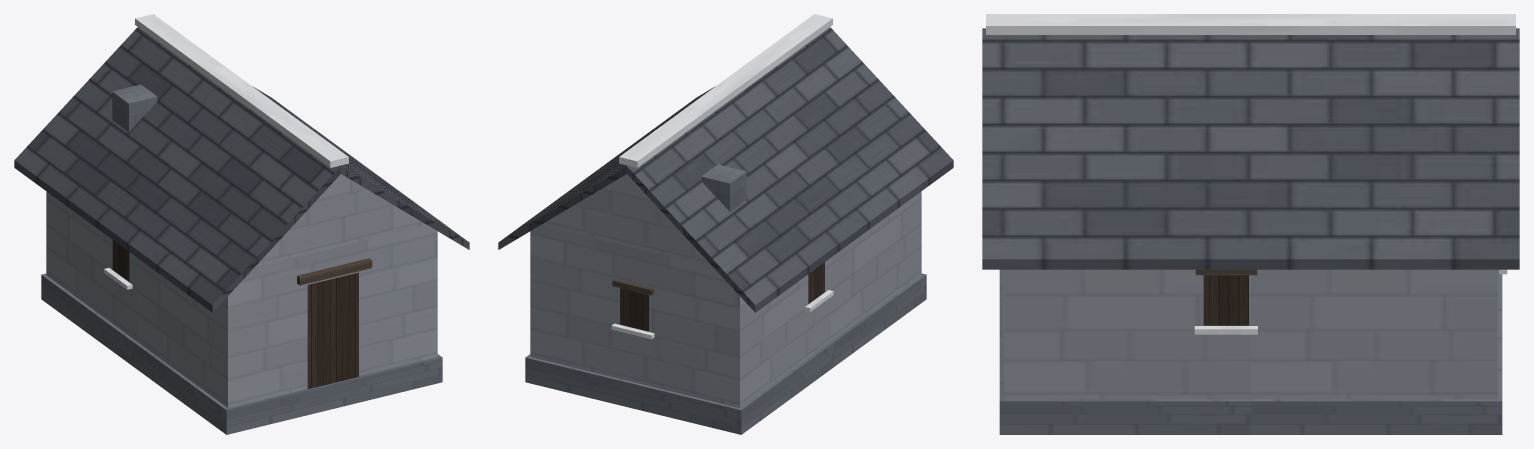
File: ae_snow_stone_medium_block_lod1.glb
3 views of the same model, side by side, from view 1: azimuth 30°, elevation 25°; view 2: azimuth 150°, elevation 25°; view 3: azimuth 270°, elevation 25° (orthographic). The views are drawn at different scales.
Visible parts, largest first — view 1: ae_snow_stone_medium_block_lod1; view 2: ae_snow_stone_medium_block_lod1; view 3: ae_snow_stone_medium_block_lod1.
Boxes of the visible parts, left/top/right/bottom form: ae_snow_stone_medium_block_lod1: left=14, top=14, right=469, bottom=434; ae_snow_stone_medium_block_lod1: left=498, top=14, right=953, bottom=434; ae_snow_stone_medium_block_lod1: left=982, top=14, right=1519, bottom=434.
Size of the model in its own units: 4.9 by 4.61 by 6.54.
Materials: 1 (1 with a texture image).
